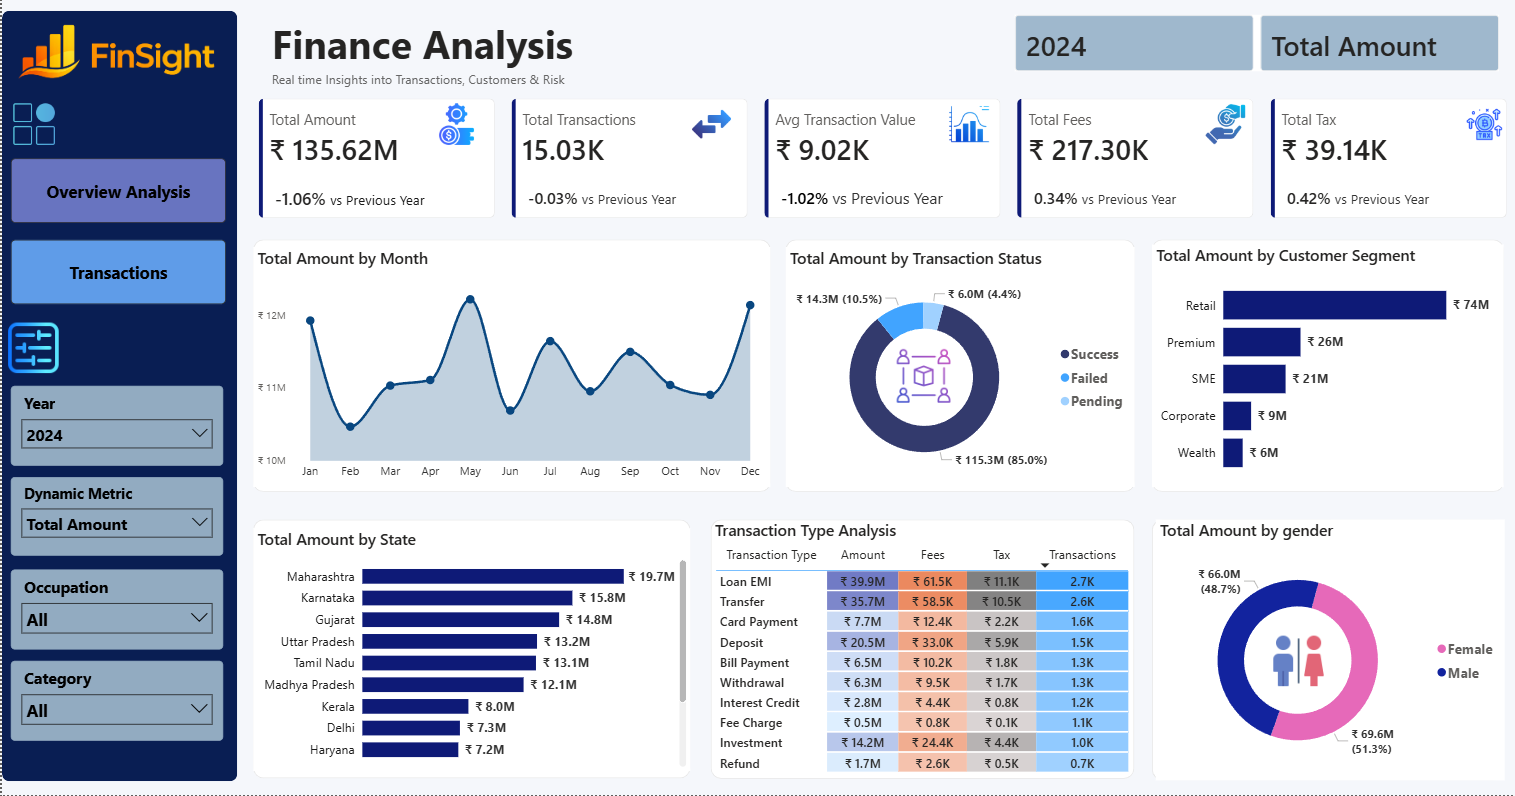

Layout of this report page (visuals, bound fields, positions):
{"tool":"powerbi","page":{"name":"Overview Analysis","canvas":[1800,950],"ordinal":0},"visuals":[{"type":"shape","box":[0,16.7,280,916.7],"z":0},{"type":"image","box":[9.8,16.4,257.7,98.5],"z":1000},{"type":"cardVisual","fields":{"Data":["finance_transactions.Dahboard Title"]},"box":[298.7,16.4,544.9,98.5],"z":2000},{"type":"cardVisual","fields":{"Data":["finance_transactions.Total Amount","finance_transactions.Total Transactions","finance_transactions.Avg Transaction Value","finance_transactions.Total Fees","finance_transactions.Total Tax"]},"box":[298.7,114.9,1501.8,154.3],"z":3000},{"type":"slicer","fields":{"Values":["Calendar Table.Year"]},"box":[9.8,462.9,252.8,95.2],"z":4000},{"type":"image","box":[515.4,126.4,49.2,49.2],"z":5000},{"type":"image","box":[819,126.4,49.2,49.2],"z":6000},{"type":"image","box":[1431.2,126.4,49.2,49.2],"z":7000},{"type":"image","box":[1126,126.4,49.2,49.2],"z":8000},{"type":"image","box":[1738.2,126.4,50,50],"z":9000},{"type":"slicer","fields":{"Values":["Dynamic Metric.Dynamic Metric"]},"box":[9.8,571.2,252.8,93.6],"z":10000},{"type":"shape","box":[298.7,288.9,615.5,300.4],"z":11000},{"type":"stackedAreaChart","fields":{"Y":["finance_transactions.Total Amount"],"Category":["Calendar Table.Month"]},"box":[298.7,297.1,615.5,285.6],"z":12000},{"type":"cardVisual","fields":{"Data":["finance_transactions.Selected Year","finance_transactions.Selected Dynamic Measure"]},"box":[1199.8,16.4,587.6,77.1],"z":13000},{"type":"shape","box":[932.3,288.9,415.3,300.4],"z":14000},{"type":"donutChart","fields":{"Y":["finance_transactions.Total Amount"],"Category":["finance_transactions.transaction_status"]},"box":[932.3,297.1,415.3,285.6],"z":15000},{"type":"shape","box":[1368.9,288.9,418.5,300.4],"z":16000},{"type":"barChart","fields":{"Y":["finance_transactions.Total Amount"],"Category":["customers.customer_segment"]},"box":[1368.9,293.8,418.5,288.9],"z":17000},{"type":"shape","box":[298.7,622.1,520,308],"z":18000},{"type":"barChart","fields":{"Y":["finance_transactions.Total Amount"],"Category":["customers.state"]},"box":[298.7,631.9,520.3,288.9],"z":19000},{"type":"shape","box":[843.6,622.1,503.9,308.6],"z":20000},{"type":"tableEx","title":"Transaction Type Analysis","fields":{"Values":["finance_transactions.transaction_type","finance_transactions.Total Amount","finance_transactions.Total Fees","finance_transactions.Total Tax","finance_transactions.Total Transactions"]},"box":[843.6,622.1,503.9,308.6],"z":21000},{"type":"shape","box":[1368.9,622.1,418.5,310.2],"z":22000},{"type":"donutChart","fields":{"Y":["finance_transactions.Total Amount"],"Category":["customers.gender"]},"box":[1372.2,622.1,415.3,310.2],"z":23000},{"type":"image","box":[1058.7,416.9,75.5,68.9],"z":24000},{"type":"image","box":[1505.1,755,75.5,68.9],"z":25000},{"type":"slicer","fields":{"Values":["customers.occupation"]},"box":[9.8,681.2,252.8,95.2],"z":26000},{"type":"slicer","fields":{"Values":["finance_transactions.merchant_category"]},"box":[9.8,789.5,252.8,95.2],"z":27000},{"type":"pageNavigator","box":[9.8,192,256,175.6],"z":28000},{"type":"image","box":[13.1,126.4,49.2,49.2],"z":29000},{"type":"image","box":[3.3,382.4,68.9,70.6],"z":30000}]}

Visuals, with their boxes on the page's 1800x950 design canvas (x1, y1, x2, y2). These are canvas units, not pixel positions in the 1515x796 screenshot, which may show the page scaled, cropped or inside an application window:
shape: (left=0, top=17, right=280, bottom=933)
image: (left=10, top=16, right=268, bottom=115)
cardVisual - finance_transactions.Dahboard Title: (left=299, top=16, right=844, bottom=115)
cardVisual - finance_transactions.Total Amount x finance_transactions.Total Transactions: (left=299, top=115, right=1800, bottom=269)
slicer - Calendar Table.Year: (left=10, top=463, right=263, bottom=558)
image: (left=515, top=126, right=565, bottom=176)
image: (left=819, top=126, right=868, bottom=176)
image: (left=1431, top=126, right=1480, bottom=176)
image: (left=1126, top=126, right=1175, bottom=176)
image: (left=1738, top=126, right=1788, bottom=176)
slicer - Dynamic Metric.Dynamic Metric: (left=10, top=571, right=263, bottom=665)
shape: (left=299, top=289, right=914, bottom=589)
stackedAreaChart - finance_transactions.Total Amount x Calendar Table.Month: (left=299, top=297, right=914, bottom=583)
cardVisual - finance_transactions.Selected Year x finance_transactions.Selected Dynamic Measure: (left=1200, top=16, right=1787, bottom=94)
shape: (left=932, top=289, right=1348, bottom=589)
donutChart - finance_transactions.Total Amount x finance_transactions.transaction_status: (left=932, top=297, right=1348, bottom=583)
shape: (left=1369, top=289, right=1787, bottom=589)
barChart - finance_transactions.Total Amount x customers.customer_segment: (left=1369, top=294, right=1787, bottom=583)
shape: (left=299, top=622, right=819, bottom=930)
barChart - finance_transactions.Total Amount x customers.state: (left=299, top=632, right=819, bottom=921)
shape: (left=844, top=622, right=1348, bottom=931)
"Transaction Type Analysis" tableEx: (left=844, top=622, right=1348, bottom=931)
shape: (left=1369, top=622, right=1787, bottom=932)
donutChart - finance_transactions.Total Amount x customers.gender: (left=1372, top=622, right=1788, bottom=932)
image: (left=1059, top=417, right=1134, bottom=486)
image: (left=1505, top=755, right=1581, bottom=824)
slicer - customers.occupation: (left=10, top=681, right=263, bottom=776)
slicer - finance_transactions.merchant_category: (left=10, top=790, right=263, bottom=885)
pageNavigator: (left=10, top=192, right=266, bottom=368)
image: (left=13, top=126, right=62, bottom=176)
image: (left=3, top=382, right=72, bottom=453)
